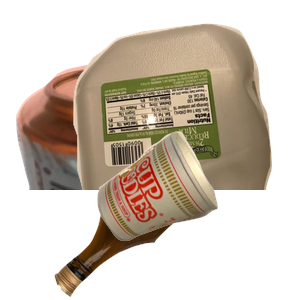glass: (52, 147, 292, 300)
metal: (13, 61, 240, 241)
plastic: (71, 21, 300, 201)
trash: (95, 129, 300, 300)
